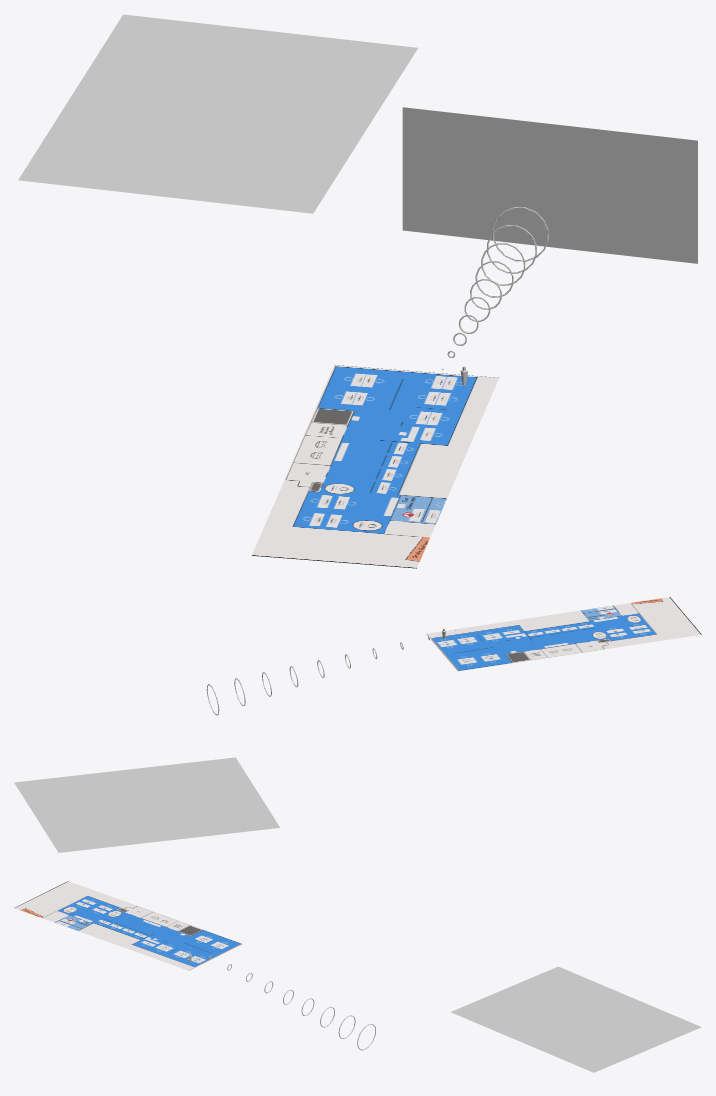
The model's file is blockin.glb.
The picture shows the model from 3 angles, top to bottom: view 1: azimuth 30°, elevation 25°; view 2: azimuth 150°, elevation 25°; view 3: azimuth 270°, elevation 25°; orthographic projection. The views are drawn at different scales.
Parts seen in each view (by area): view 1: Plane.002, Plane.001, grundriss arboo, Icosphere; view 2: Plane.002, grundriss arboo, Icosphere; view 3: Plane.002, grundriss arboo, Icosphere.
Boxes of the visible parts, x1,y1,x2,y2 form: Plane.002: (18,14,417,213); Plane.001: (402,107,697,263); grundriss arboo: (252,365,498,568); Icosphere: (442,207,548,369); Plane.002: (14,757,280,852); grundriss arboo: (426,597,701,671); Icosphere: (206,630,456,715); Plane.002: (450,966,701,1072); grundriss arboo: (14,881,242,970); Icosphere: (190,947,375,1050).
Bounding box in the file's own units: 73.37 × 12.4 × 125.
1 material, 1 textured.
